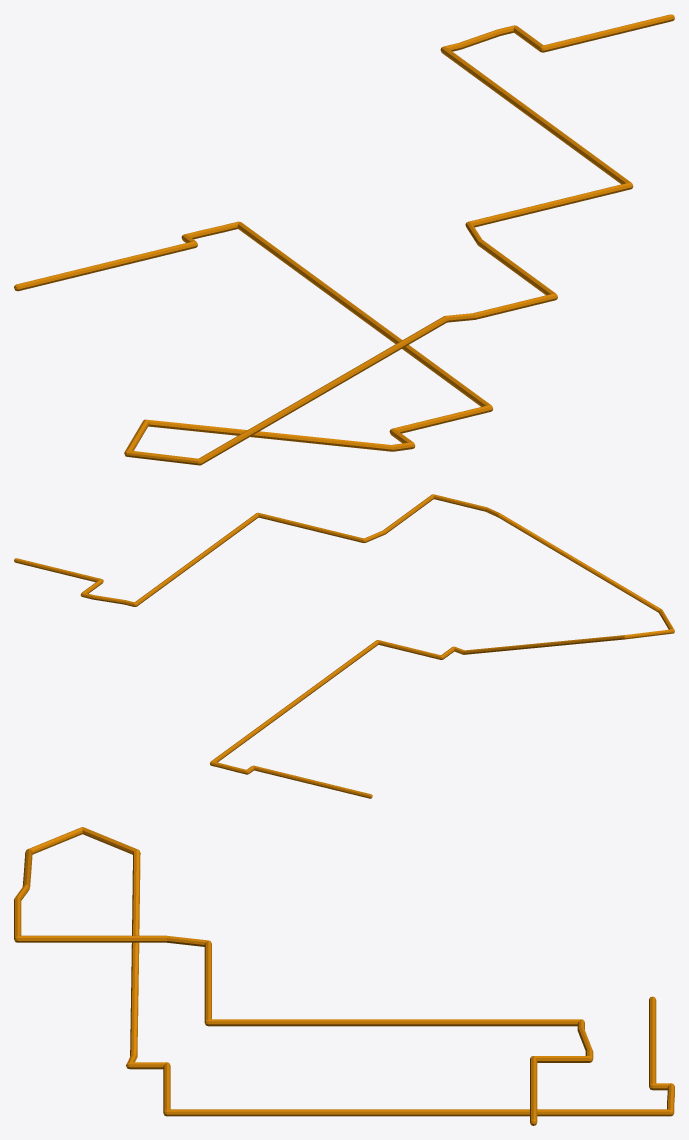
3 renders of one model, top to bottom at view 1: azimuth 30°, elevation 25°; view 2: azimuth 150°, elevation 25°; view 3: azimuth 270°, elevation 25°, orthographic. The views are drawn at different scales.
Size of the model in its own units: 2408 by 520 by 1772.
